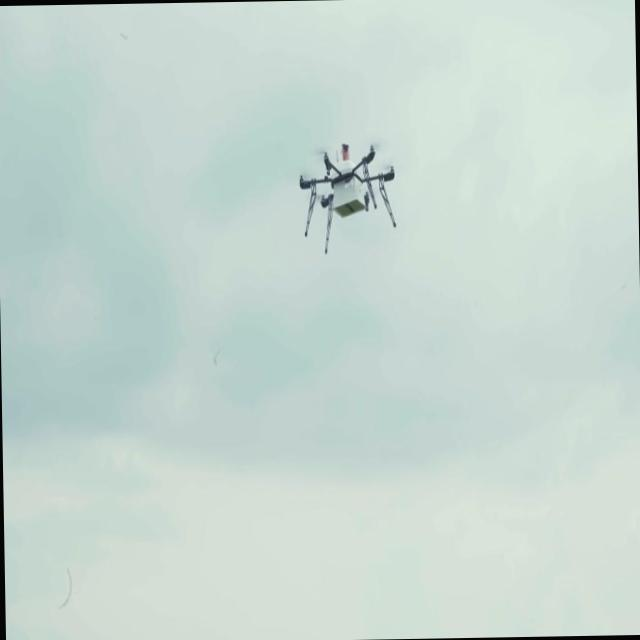drone: (297, 142, 400, 255)
